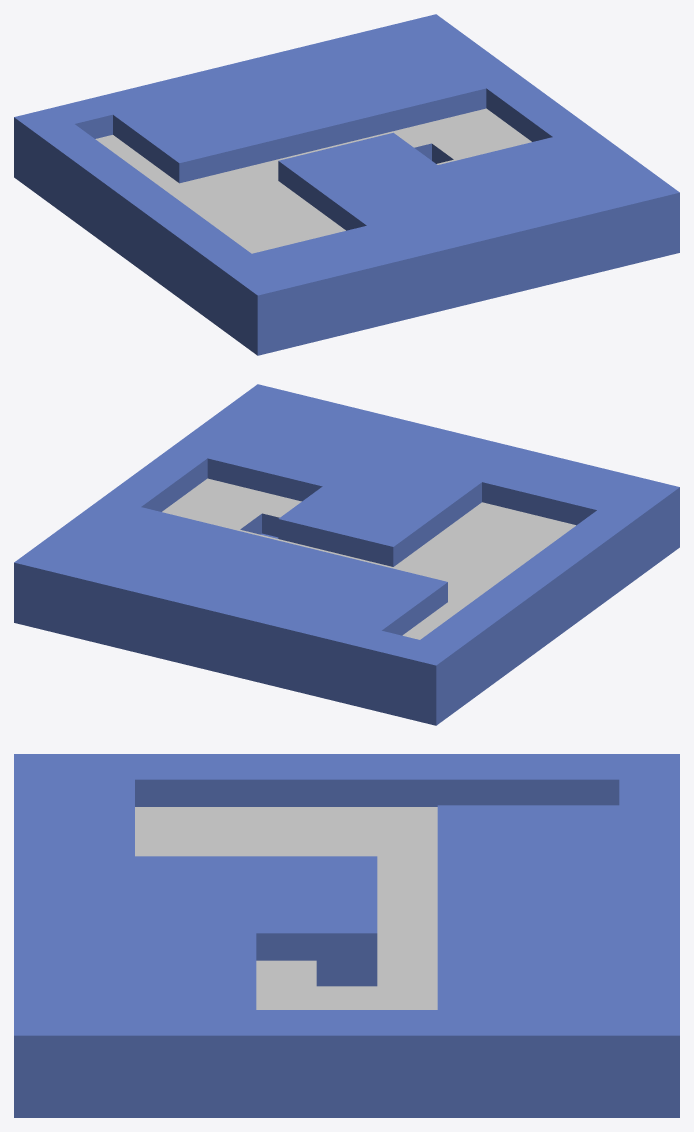
The model's file is 007_platform.fbx.
3 renders of one model, top to bottom at view 1: azimuth 30°, elevation 25°; view 2: azimuth 150°, elevation 25°; view 3: azimuth 270°, elevation 25°, orthographic. The views are drawn at different scales.
Parts seen in each view (by area): view 1: Cube; view 2: Cube; view 3: Cube.
Boxes of the visible parts, x1,y1,x2,y2 form: Cube: (14,14,679,355); Cube: (14,384,679,725); Cube: (14,754,679,1117).
Bounding box in the file's own units: 1100 × 150 × 1100.
